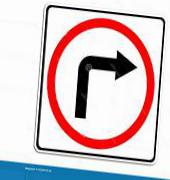right: (45, 16, 157, 150)
